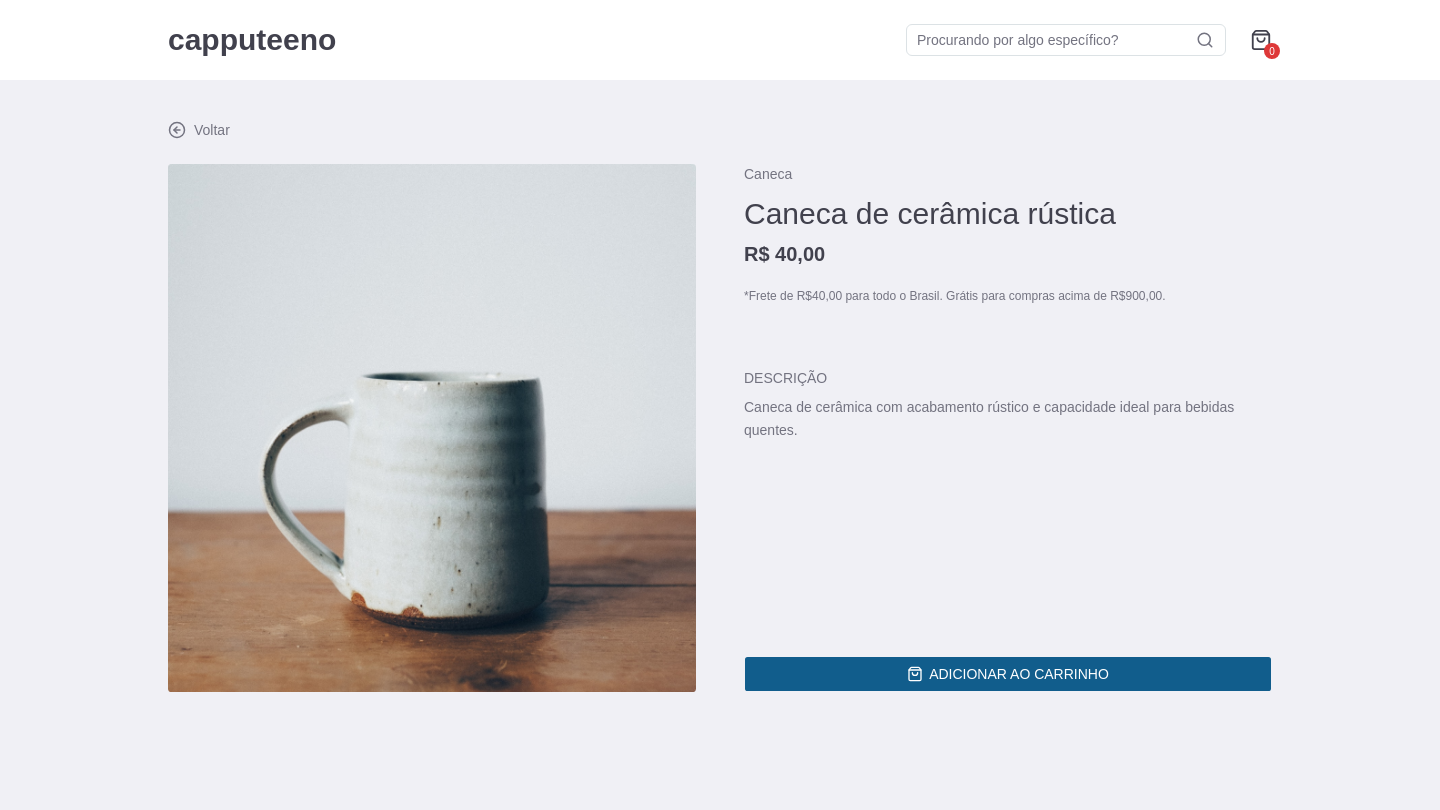
Test case: ProductDetails › should add the product to the cart
Click the button "Adicionar ao carrinho": (1008, 674) [744,656,1272,692]
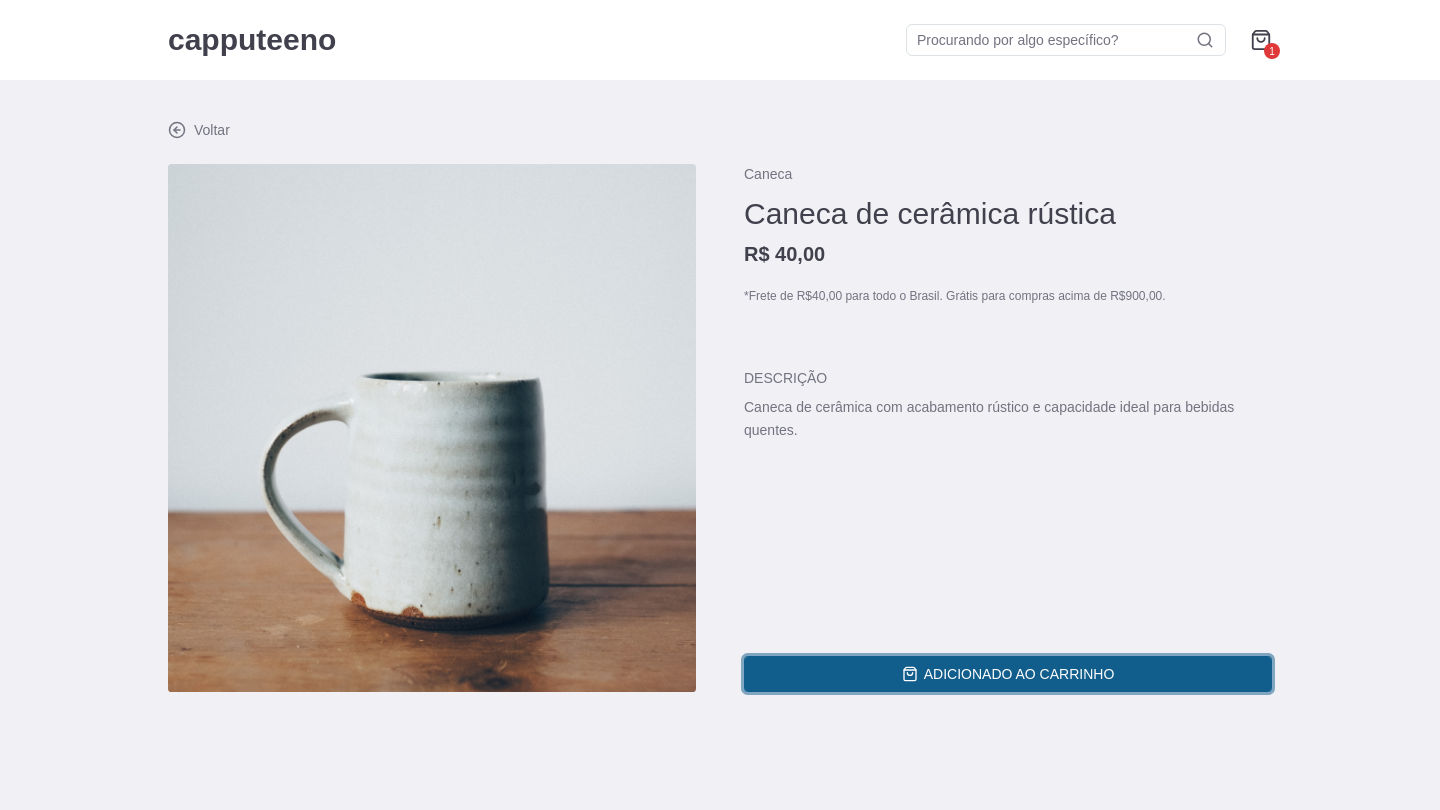
Result: the button "Adicionado ao carrinho" is shown at [744,656,1272,692]
